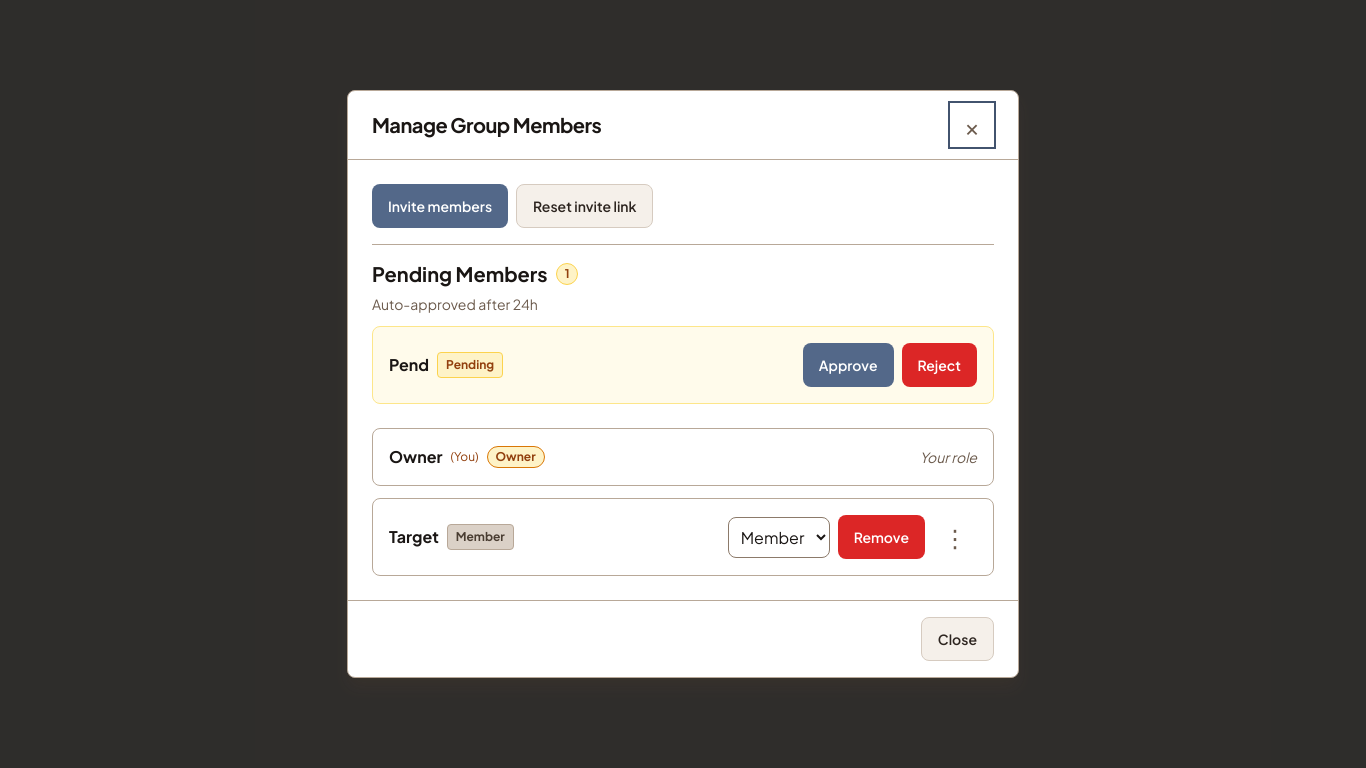
Test case: ManageMembers — Req 9 modal migration proof (transfer-ownership confirm) › exposes role=dialog labelled by its title
Check: the dialog "Manage Group Members" is shown, box x1=347 y1=90 x2=1019 y2=678
Click the button named "More actions for Target": click(955, 537) x1=933 y1=515 x2=977 y2=559
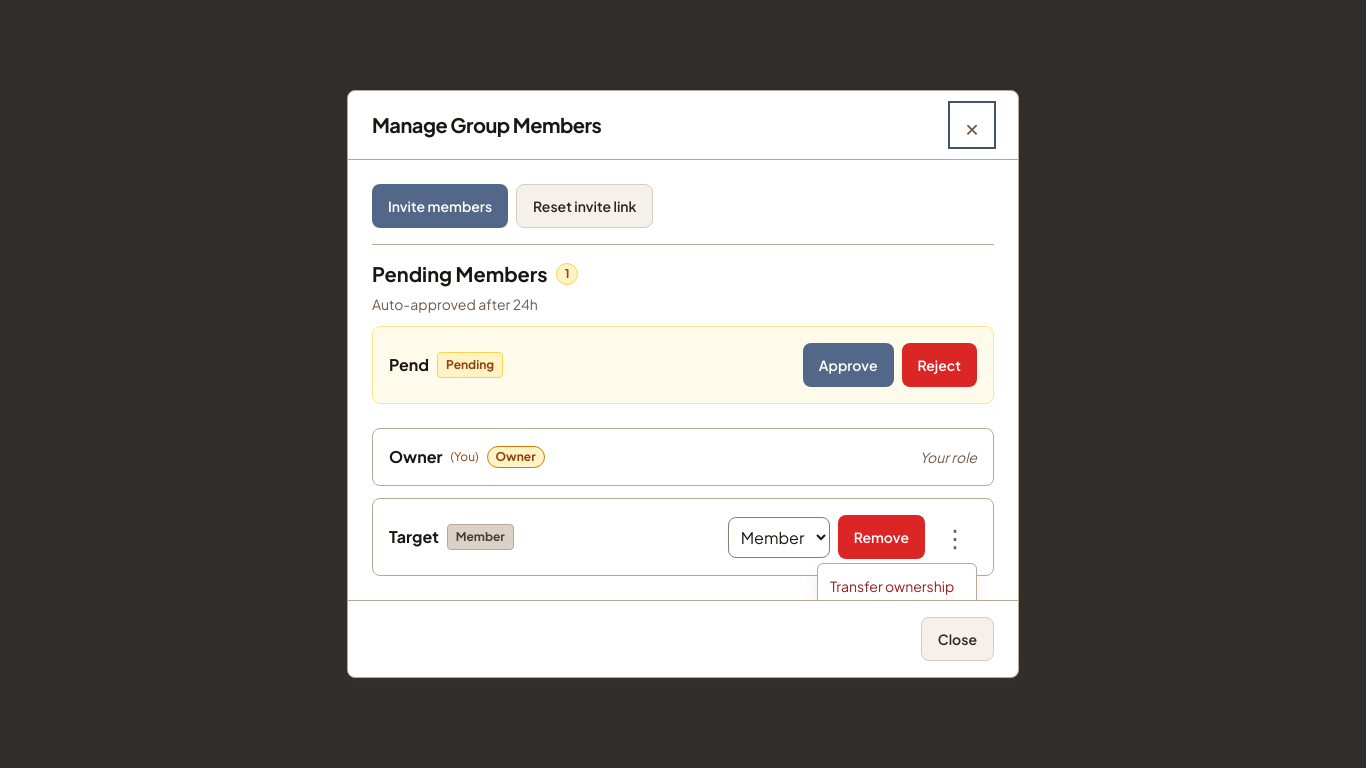
Click the button "Transfer ownership to this member": click(897, 596) x1=818 y1=568 x2=976 y2=624
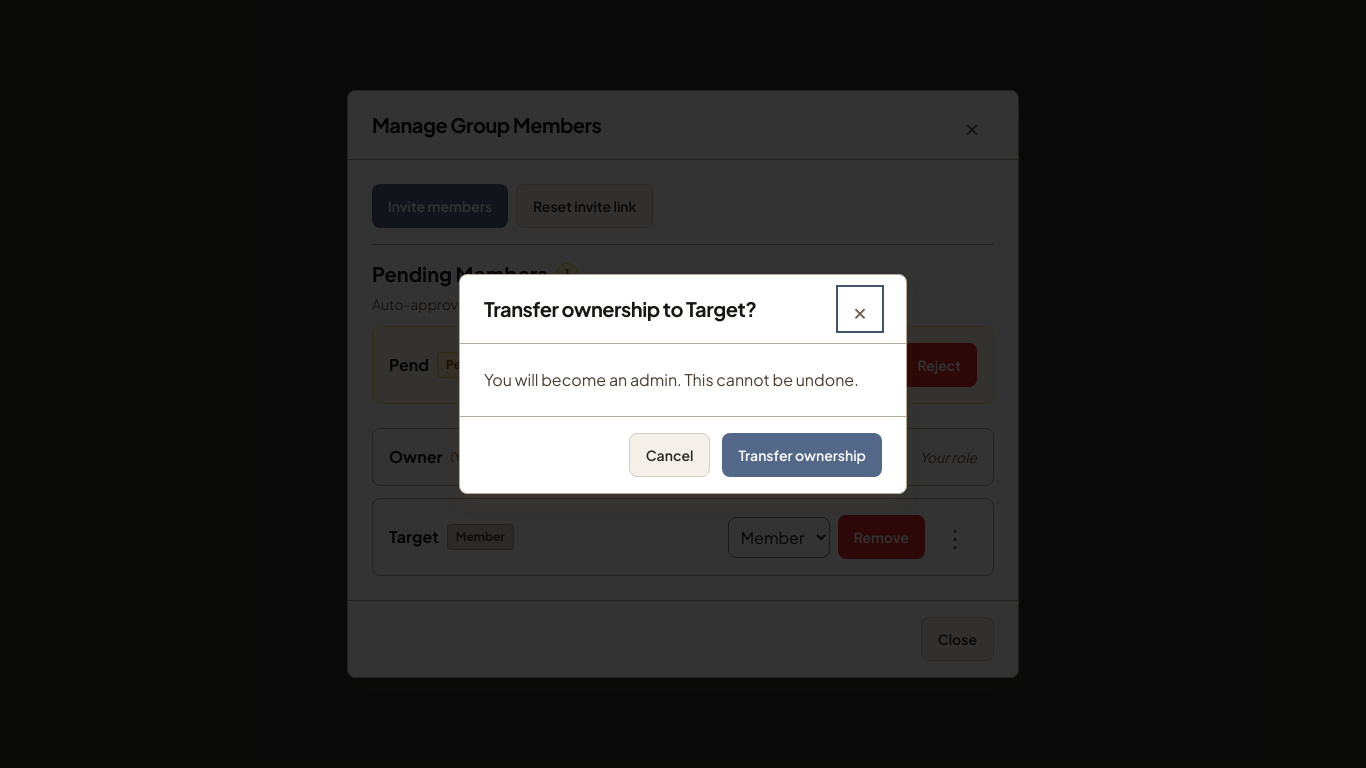
Check: the dialog "Transfer ownership to Target?" is shown, box x1=459 y1=274 x2=907 y2=494
